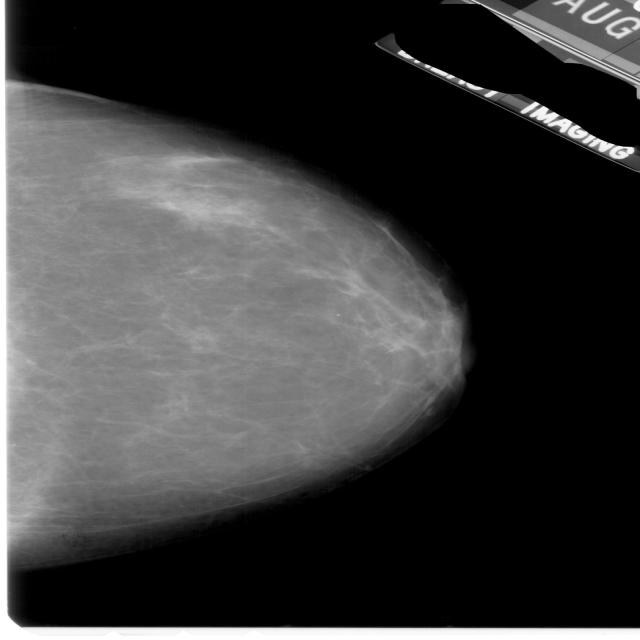normal: (0, 63, 482, 555)
